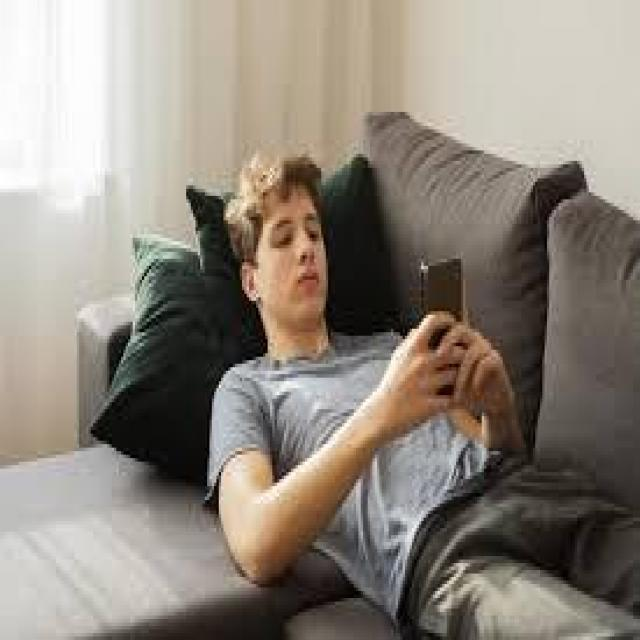person: (198, 140, 638, 619)
